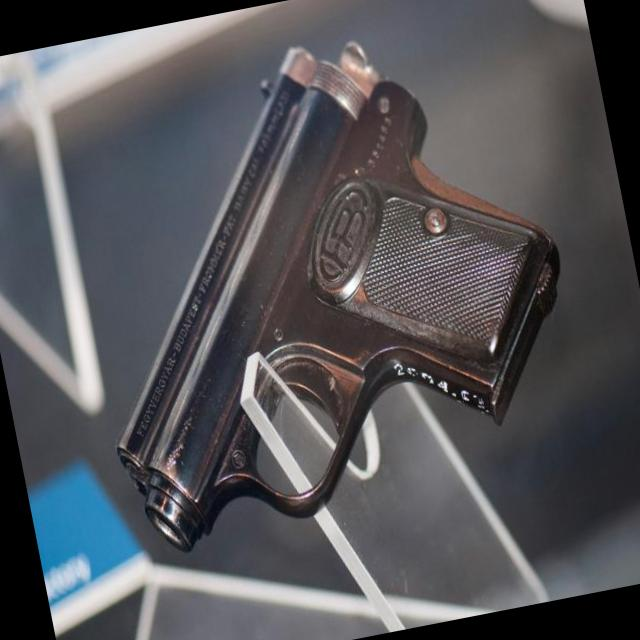Gun: (119, 43, 559, 550)
